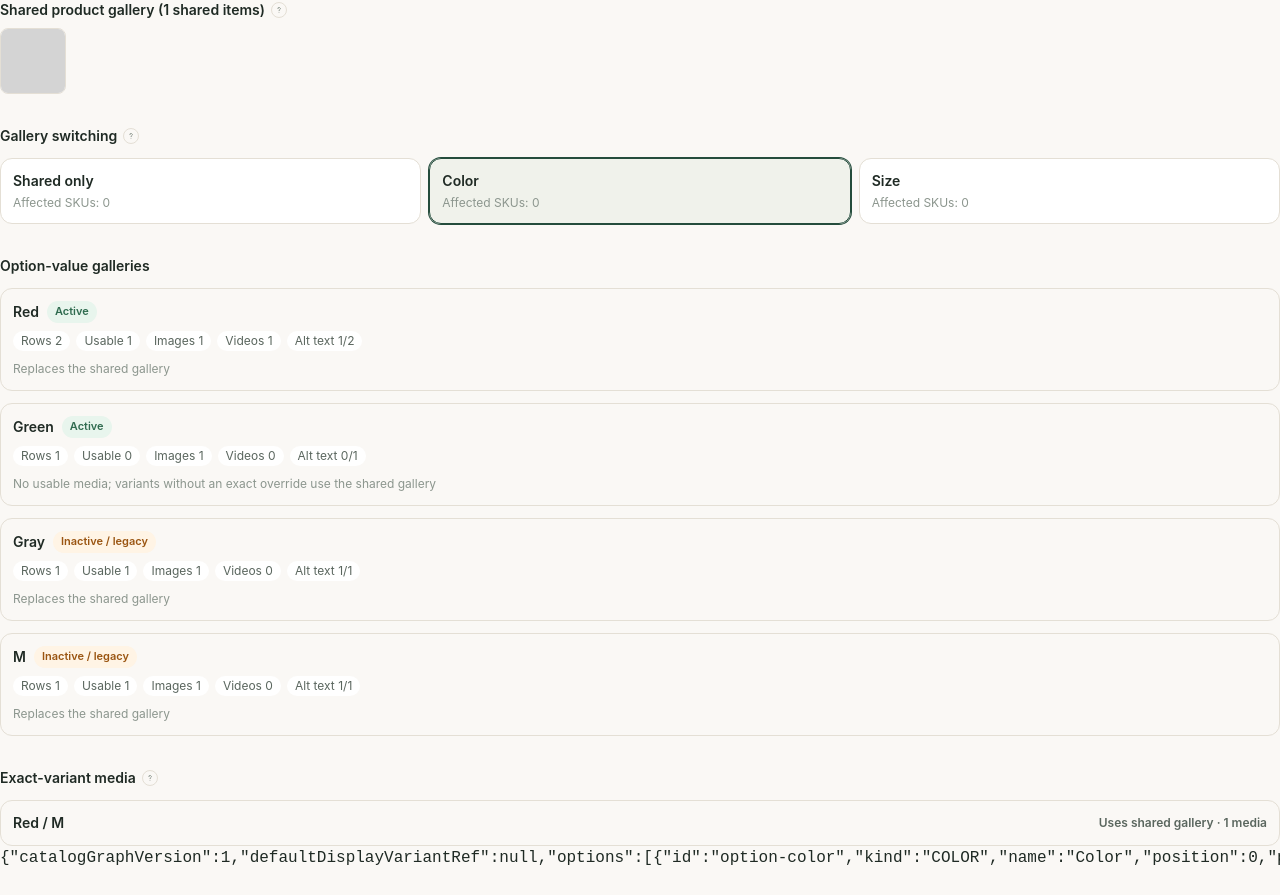
Test case: ProductMediaScopesEditor › summarizes active, blank, and legacy option-value scopes truthfully
The image size is (1280, 895).
Check: the heading named "Color / Red media summary" shows "Active", box x1=13 y1=301 x2=362 y2=376
Check: the heading named "Color / Red media summary" shows "Rows 2", box x1=13 y1=301 x2=362 y2=376
Click the heading named "Color / Green media summary" at (225, 453), box x1=13 y1=416 x2=436 y2=491
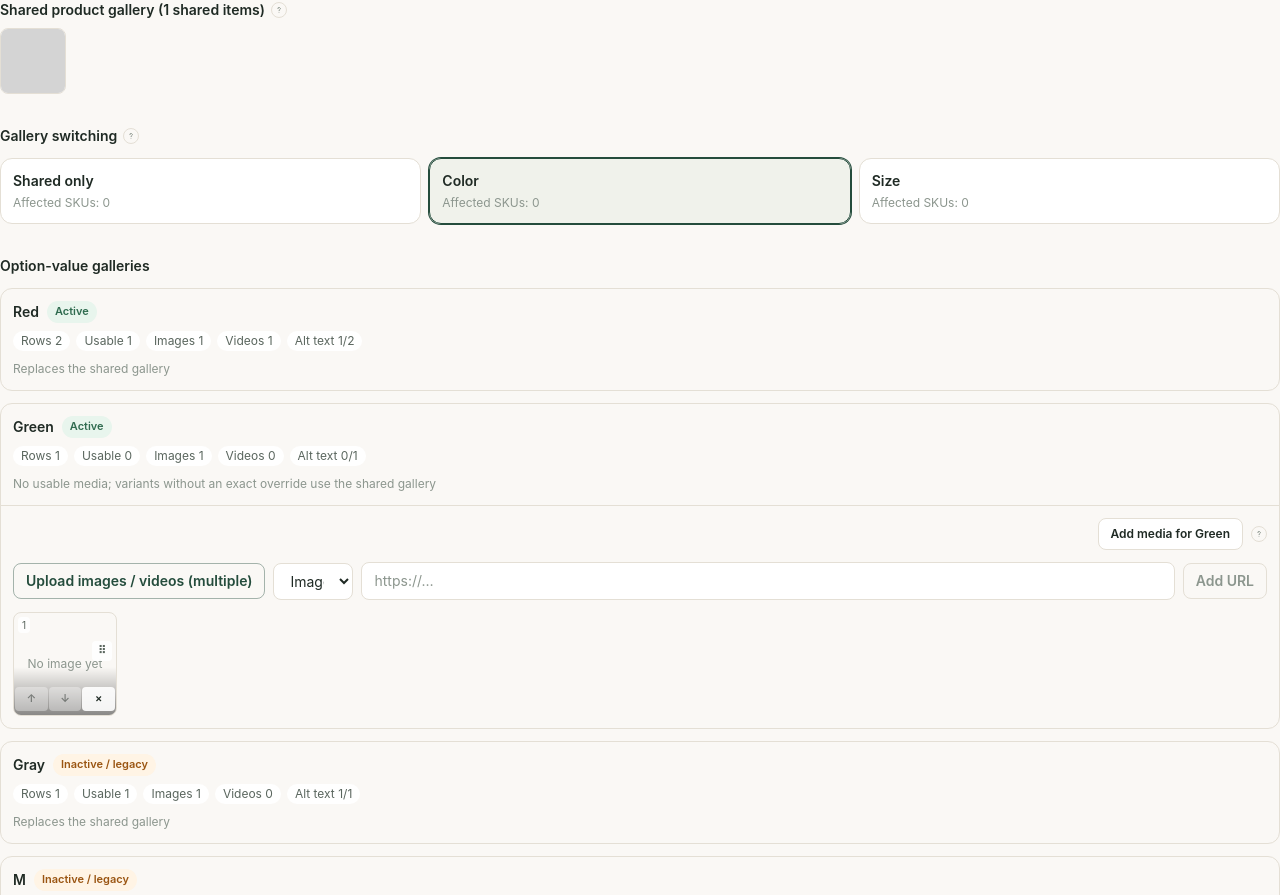
Check: the element named "Color / Green media summary" has attribute open, box x1=0 y1=403 x2=1279 y2=729
Click the button with aria-label "Edit Green media 1" at (65, 664), box x1=14 y1=613 x2=116 y2=715
(page scrolled)
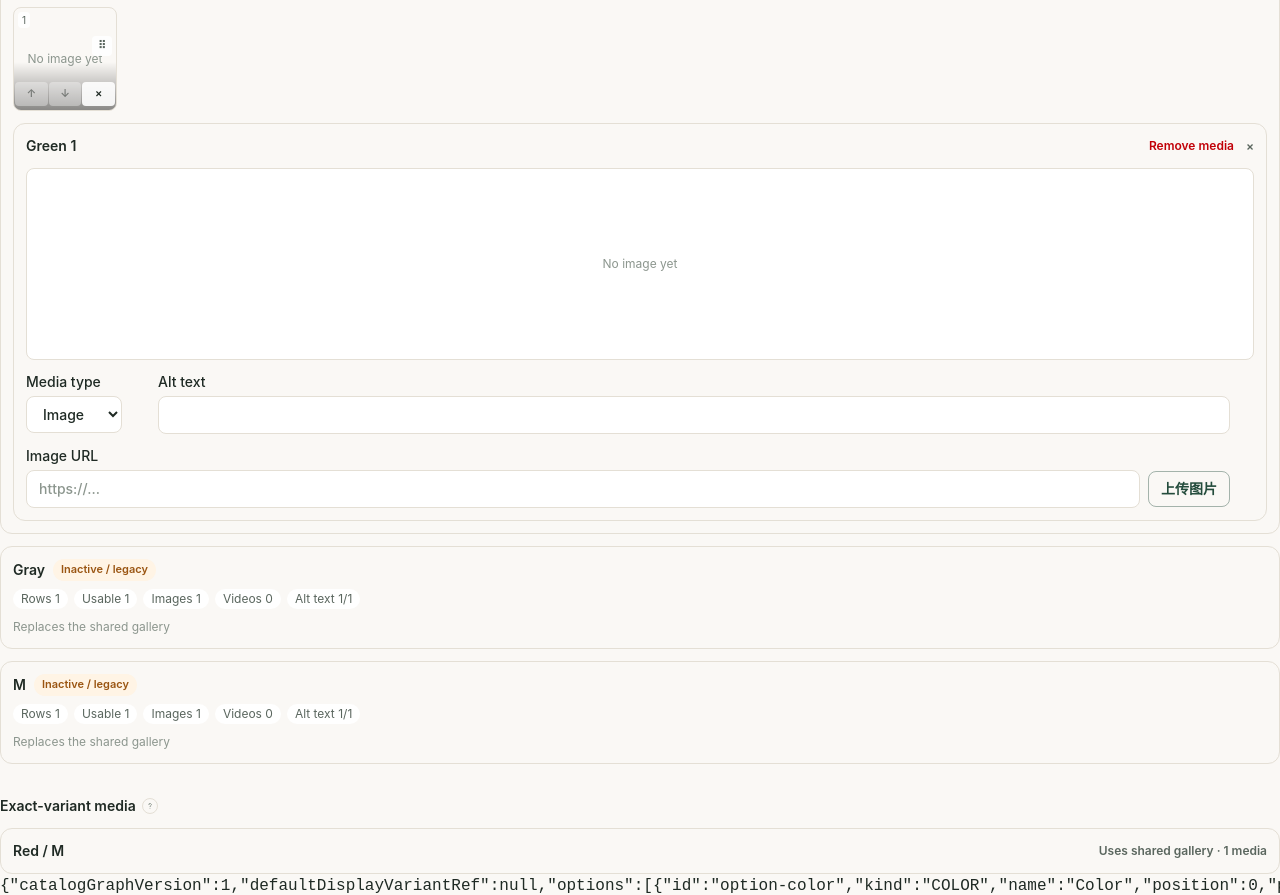
Check: the field named "Media URL for Green 1" is empty, box x1=26 y1=470 x2=1140 y2=508
Check: the button "Remove media" is shown, box x1=1149 y1=138 x2=1234 y2=154
Click the heading named "Color / Gray media summary" at (187, 596), box x1=13 y1=559 x2=360 y2=634
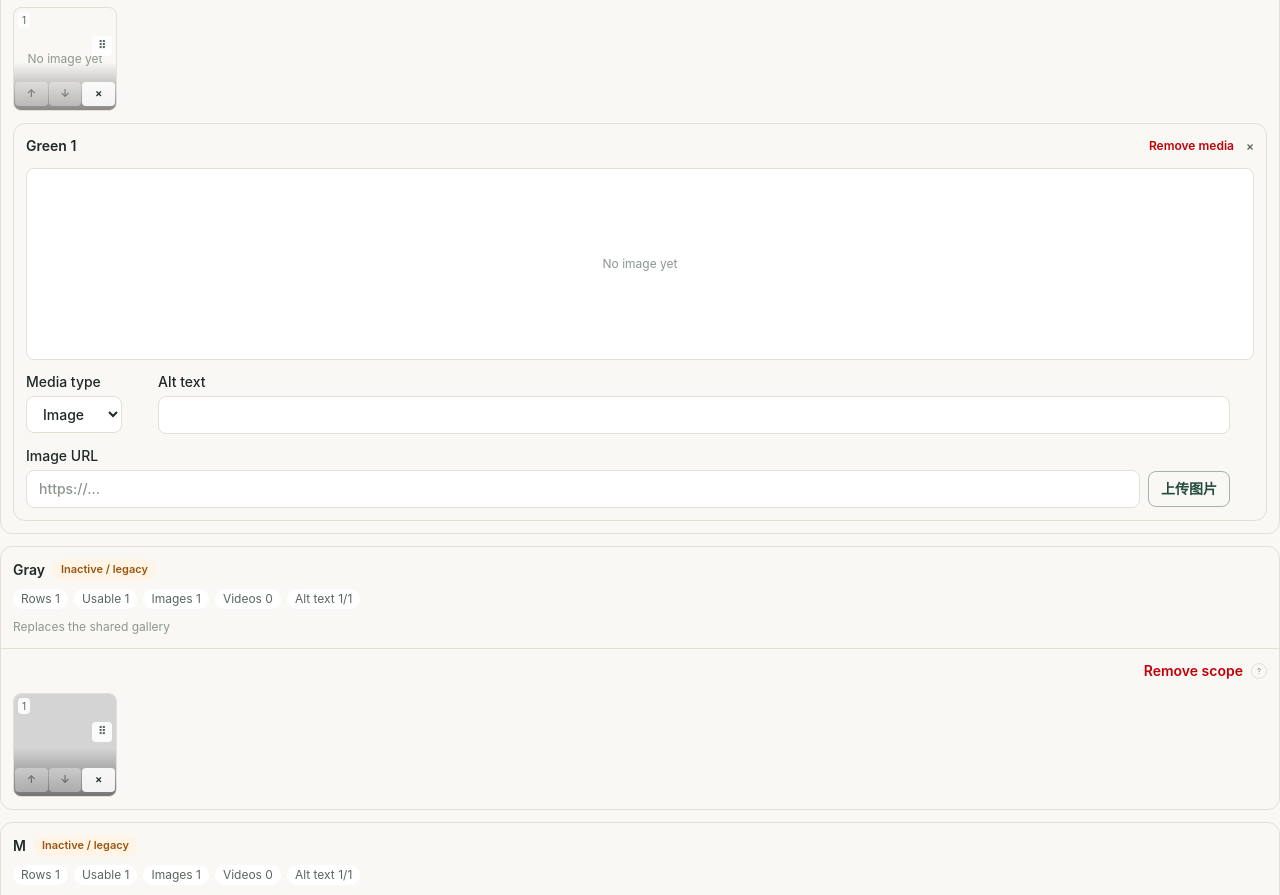
Check: the button "Remove scope" is shown, box x1=1144 y1=661 x2=1243 y2=681
